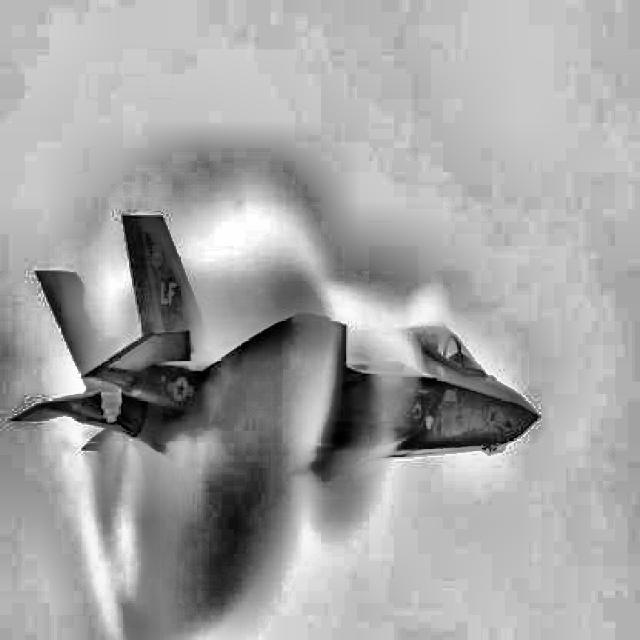F35: (8, 213, 542, 475)
